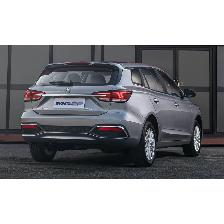EV: (21, 61, 205, 167)
